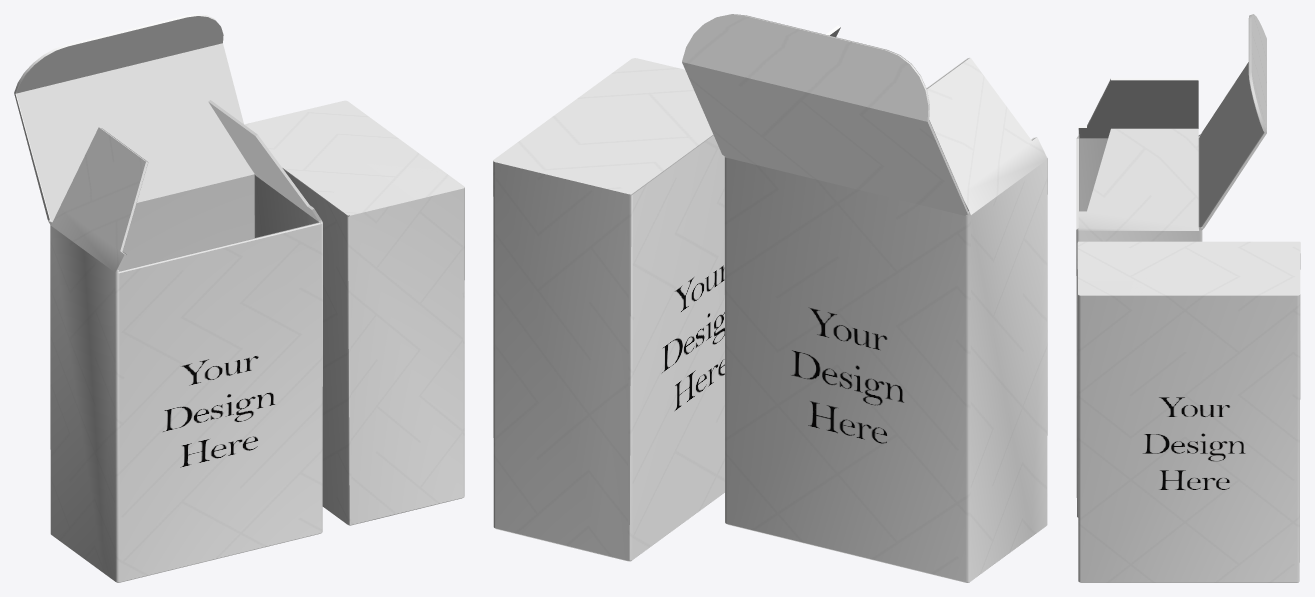
Rendered from Folding A-3.glb.
3 views of the same model, side by side, from view 1: azimuth 30°, elevation 25°; view 2: azimuth 150°, elevation 25°; view 3: azimuth 270°, elevation 25° (orthographic). The views are drawn at different scales.
Visible parts, largest first — view 1: Box4.002, Box4.003, Box4.005, Box4.004; view 2: Box4.002, Box4.003, Box4.004; view 3: Box4.003, Box4.002, Box4.005, Box4.004.
Boxes of the visible parts, box(x1,y1,x2,y2) form: Box4.002: box(48, 127, 322, 582); Box4.003: box(244, 100, 464, 525); Box4.005: box(16, 16, 319, 271); Box4.004: box(14, 14, 321, 272); Box4.002: box(682, 14, 1047, 582); Box4.003: box(493, 58, 724, 561); Box4.004: box(730, 14, 1036, 213); Box4.003: box(1077, 241, 1300, 582); Box4.002: box(1076, 14, 1266, 517); Box4.005: box(1078, 15, 1263, 227); Box4.004: box(1076, 14, 1266, 229).
Bounding box in the file's own units: 2.06 × 2.59 × 1.23.
Materials: 2 (1 with a texture image).
